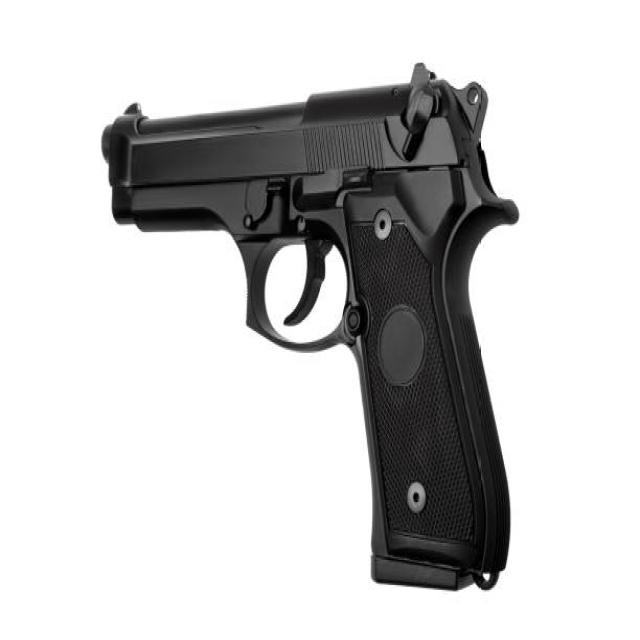pistol: (99, 57, 527, 600)
